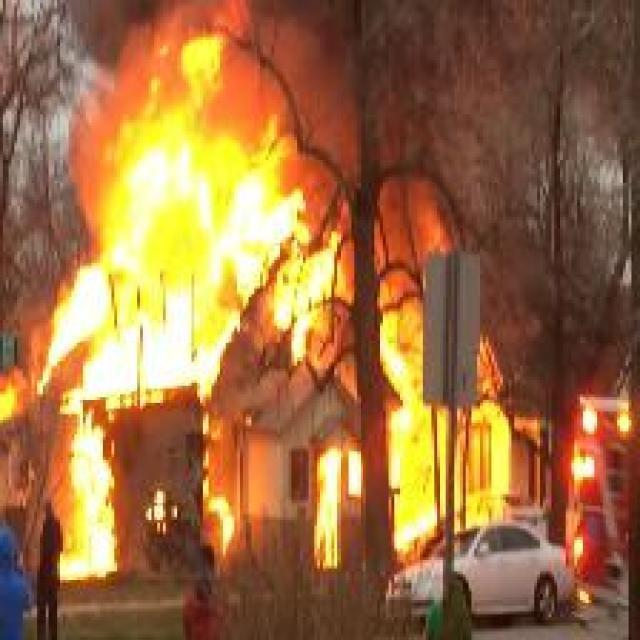Fire: (44, 32, 226, 397), (384, 335, 439, 542), (228, 162, 301, 294), (54, 424, 115, 580), (274, 245, 340, 358), (316, 452, 342, 567)
